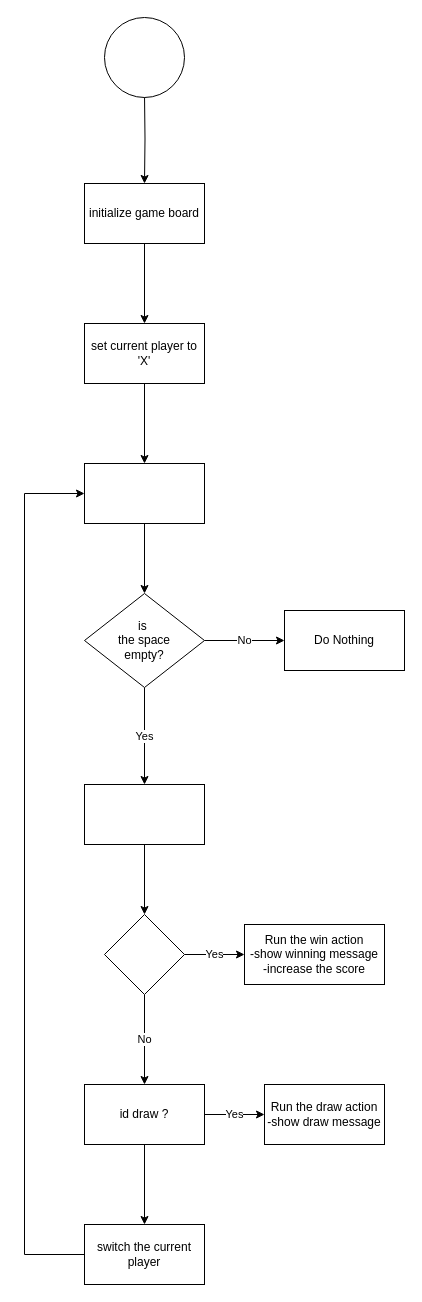
This 422x1302 diagram has some shape labels left out. The box of each missing label's shape, as (x1, y1, x2, y2) in pixels:
is the player won?: (104, 914, 184, 994)
place the mark in the selected space: (84, 784, 204, 844)
Select a space on the board: (84, 462, 204, 524)
Start: (104, 16, 184, 98)
